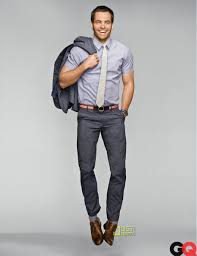F_belt: (73, 98, 129, 119)
F_dress pants: (73, 111, 128, 224)
F_shirt: (57, 35, 138, 110)
F_tie: (98, 44, 109, 113)
